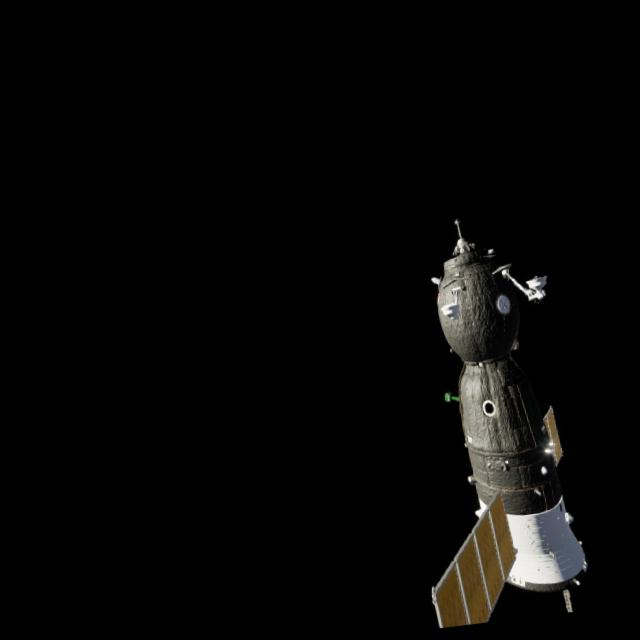Satellites revolving around earth: (384, 204, 596, 626)
